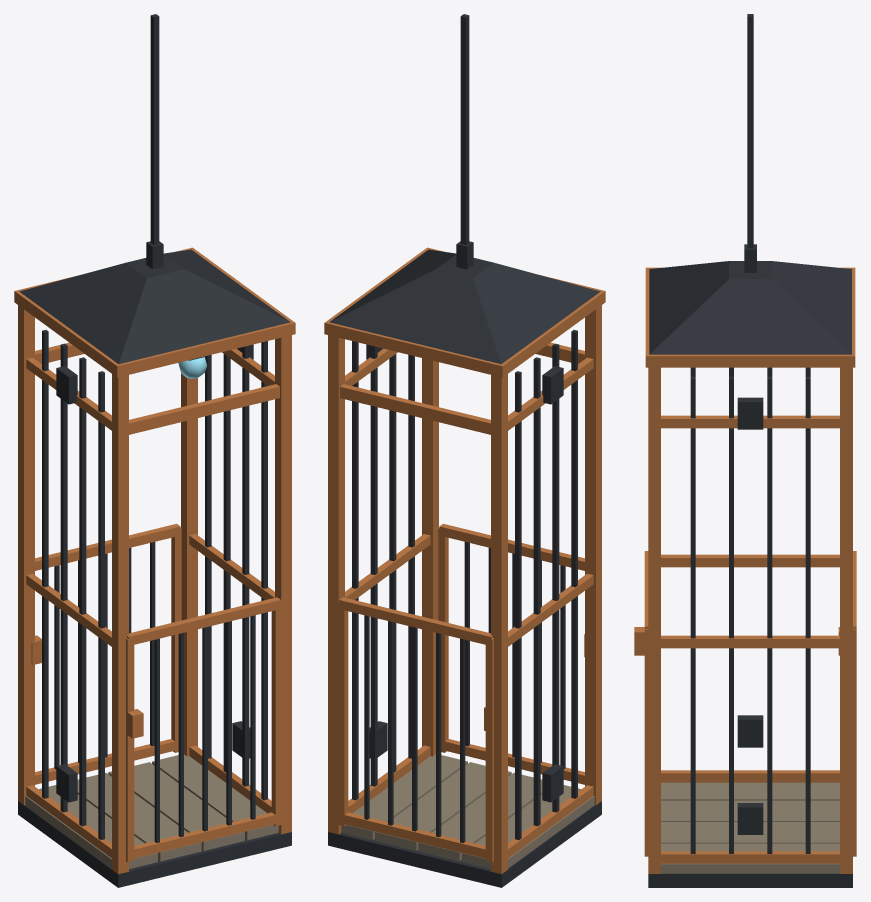
Rendered from lift_cage.glb.
The picture shows the model from 3 angles, left to right: view 1: azimuth 30°, elevation 25°; view 2: azimuth 150°, elevation 25°; view 3: azimuth 270°, elevation 25°; orthographic projection.
Visible parts, largest first — view 1: lift_cage, gate_front, gate_back, cable_cage; view 2: lift_cage, gate_back, gate_front, cable_cage; view 3: lift_cage, gate_front, cable_cage, gate_back.
Boxes of the visible parts, <box> form: lift_cage: <box>14,241,295,887</box>; gate_front: <box>126,597,281,862</box>; gate_back: <box>31,523,181,784</box>; cable_cage: <box>150,14,159,244</box>; lift_cage: <box>324,241,605,887</box>; gate_back: <box>338,597,493,862</box>; gate_front: <box>438,523,584,784</box>; cable_cage: <box>460,14,469,244</box>; lift_cage: <box>645,244,855,887</box>; gate_front: <box>634,551,648,856</box>; cable_cage: <box>747,14,753,248</box>; gate_back: <box>838,551,856,856</box>.
Bounding box in the file's own units: 0.85 × 3.58 × 0.87.
